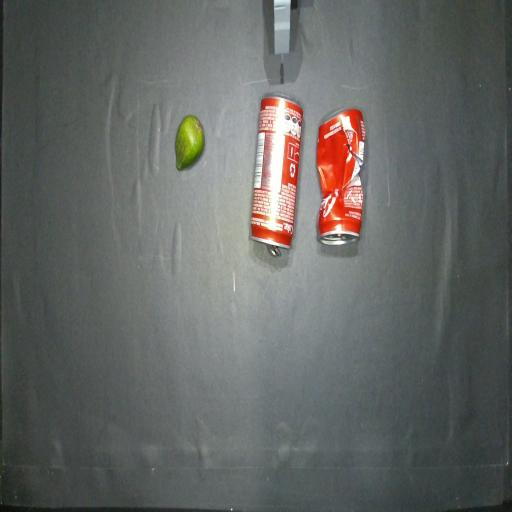higo: (175, 115, 204, 170)
lata: (251, 93, 304, 256)
lata_defectuoso: (317, 109, 365, 245)
